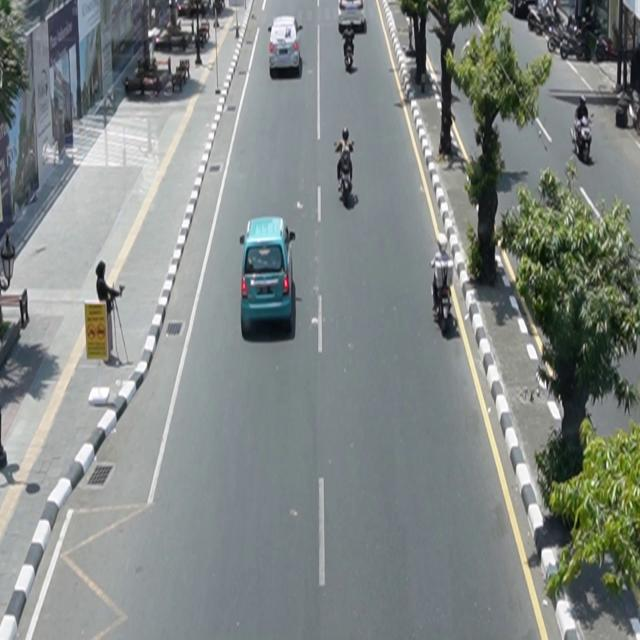car: (240, 216, 296, 338), (269, 16, 304, 72), (339, 1, 367, 35)
